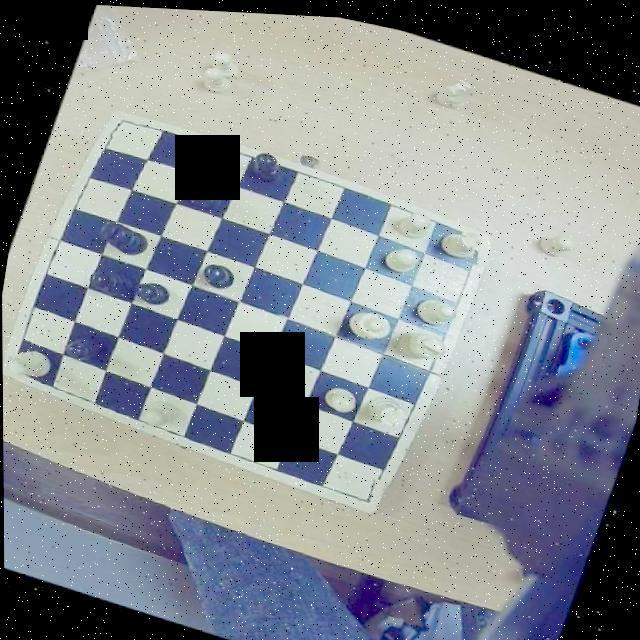chess-table-corners: (352, 469, 393, 511), (460, 224, 500, 266), (7, 350, 43, 386), (106, 110, 140, 142)
